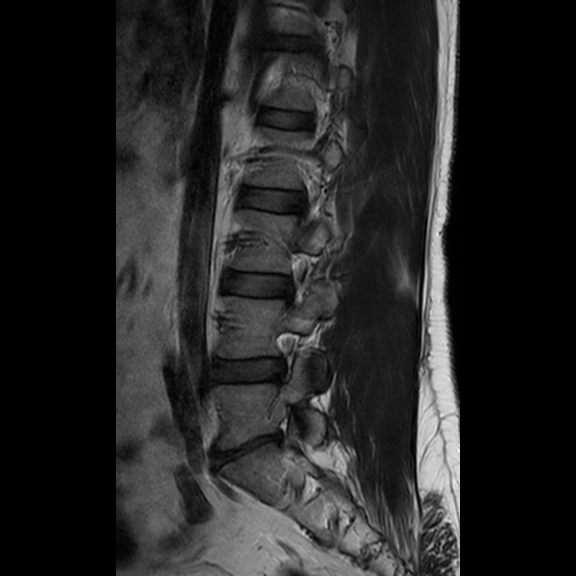RFS1: (261, 319, 307, 394)
